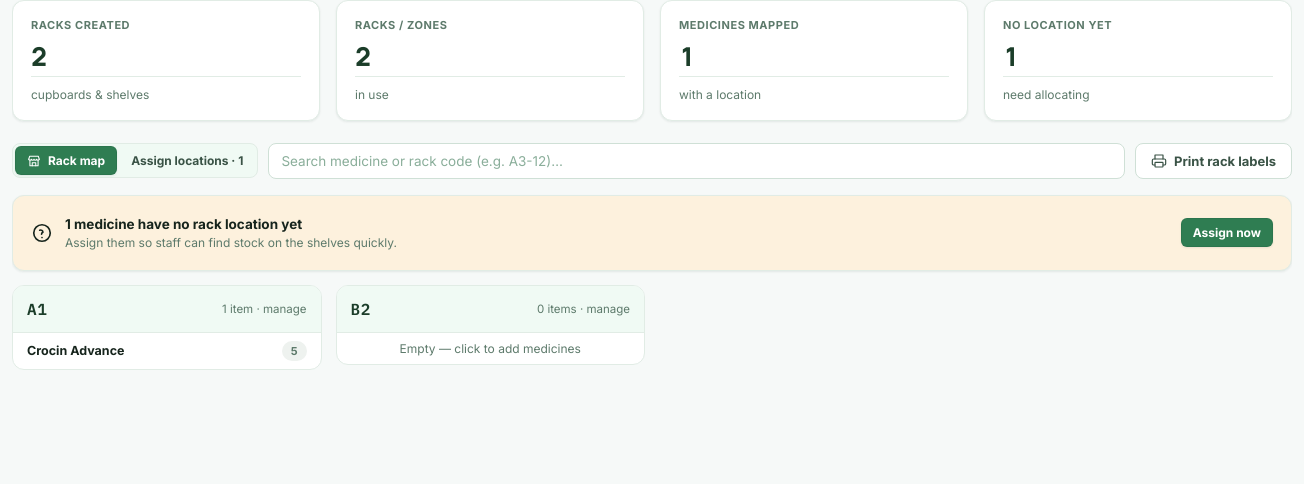
Test: RacksPage › opens assign locations for medicines with no rack
What coordinates should you click on to do the following:
click the button "Assign locations · 1"
I would click on:
 (187, 160)
Its box is [119, 146, 255, 175].
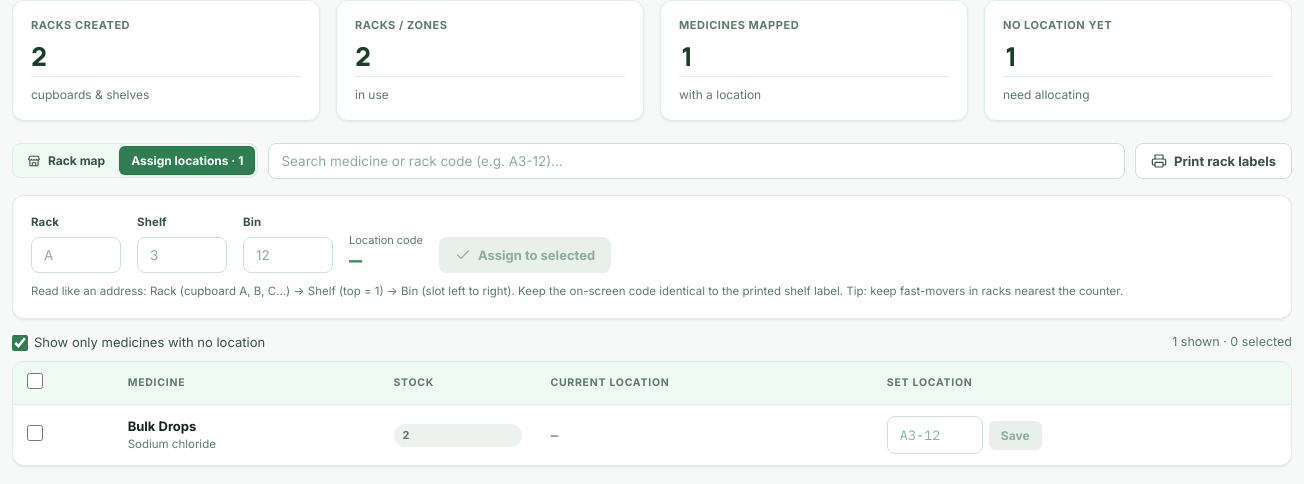
expect the field named "Rack" is shown: met, box [31, 237, 121, 273]
expect the text "Bulk Drops" is shown: met, box [128, 418, 196, 434]
expect the button "Crocin Advance" is gone: met
